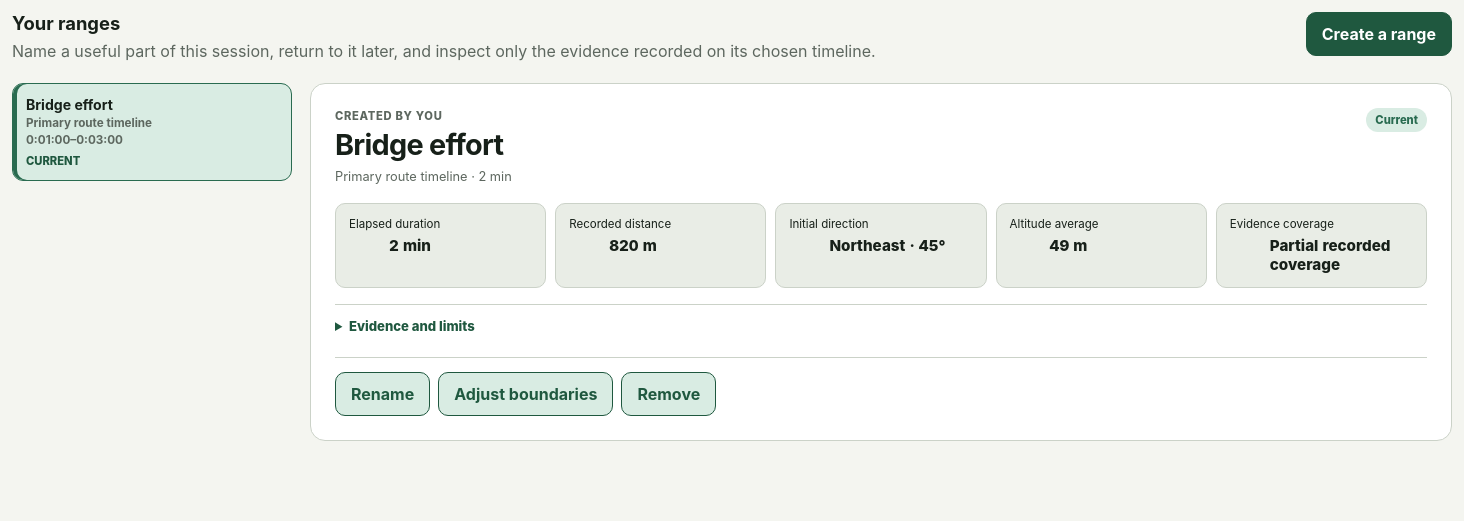
Scenario: TrainingRangesPanel › renames and adjusts an established range without offering silent reassignment
Expected: the heading "Bridge effort" is shown, [335,129,512,161]
Click the button "Rename" at x=383, y=394, box [335,372,430,416]
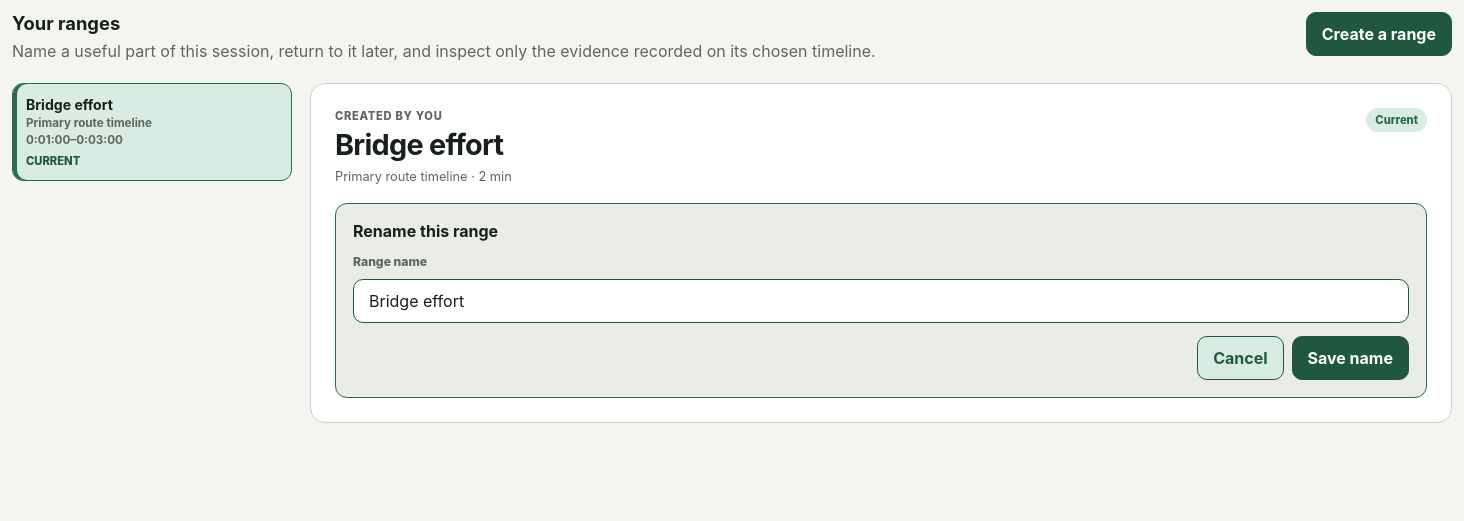
Replace the text in the field labelled "Range name" with "Bridge to lock" at x=881, y=301, box [353,279,1409,323]
Click the button "Save name" at x=1350, y=358, box [1292,336,1409,380]
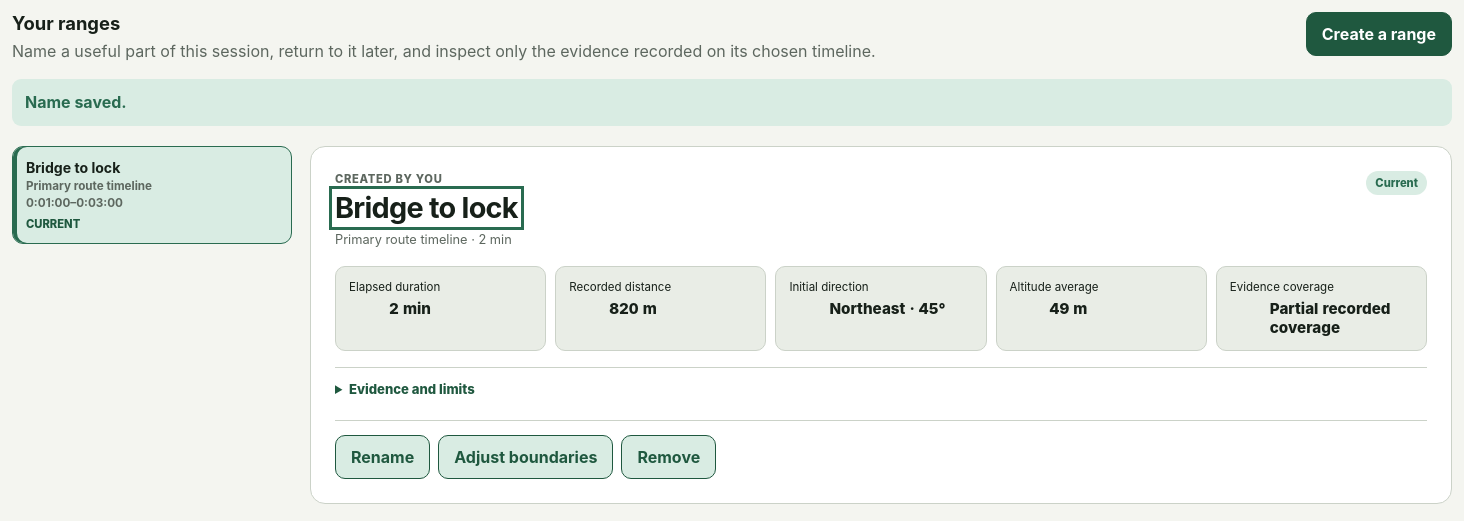
Click the button "Adjust boundaries" at x=526, y=457, box [438,435,613,479]
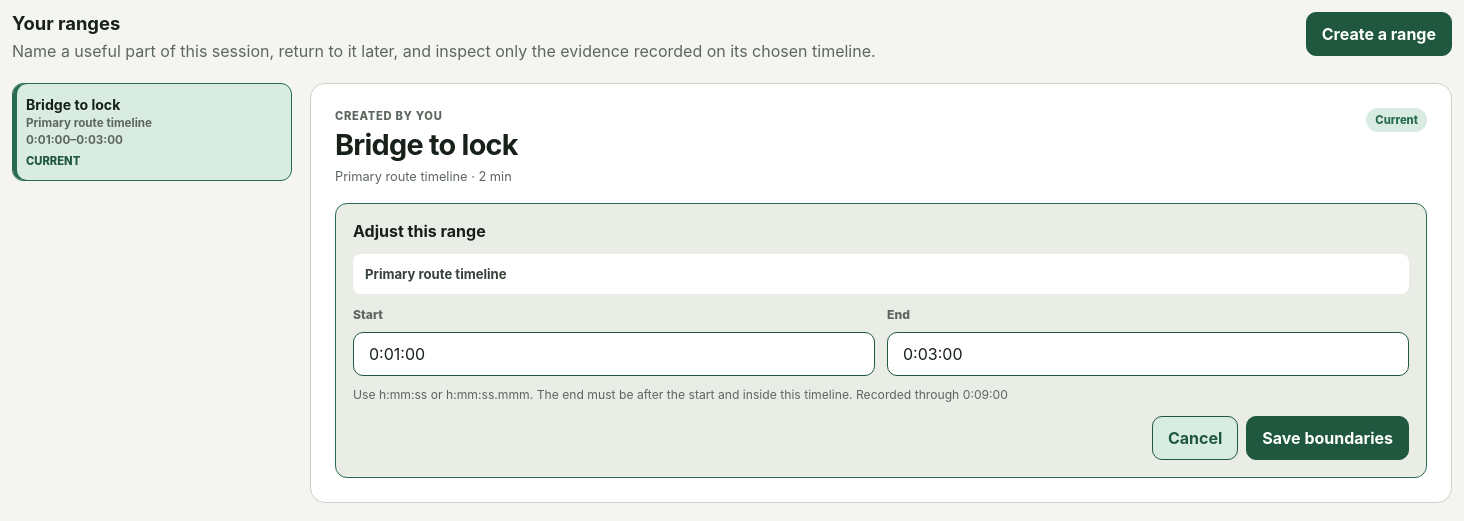
Expected: the text "Primary route timeline" below "Adjust this range" is shown, [365,266,507,282]
Replace the text in the field labelled "Start" with "0:01:30" at x=614, y=354, box [353,332,875,376]
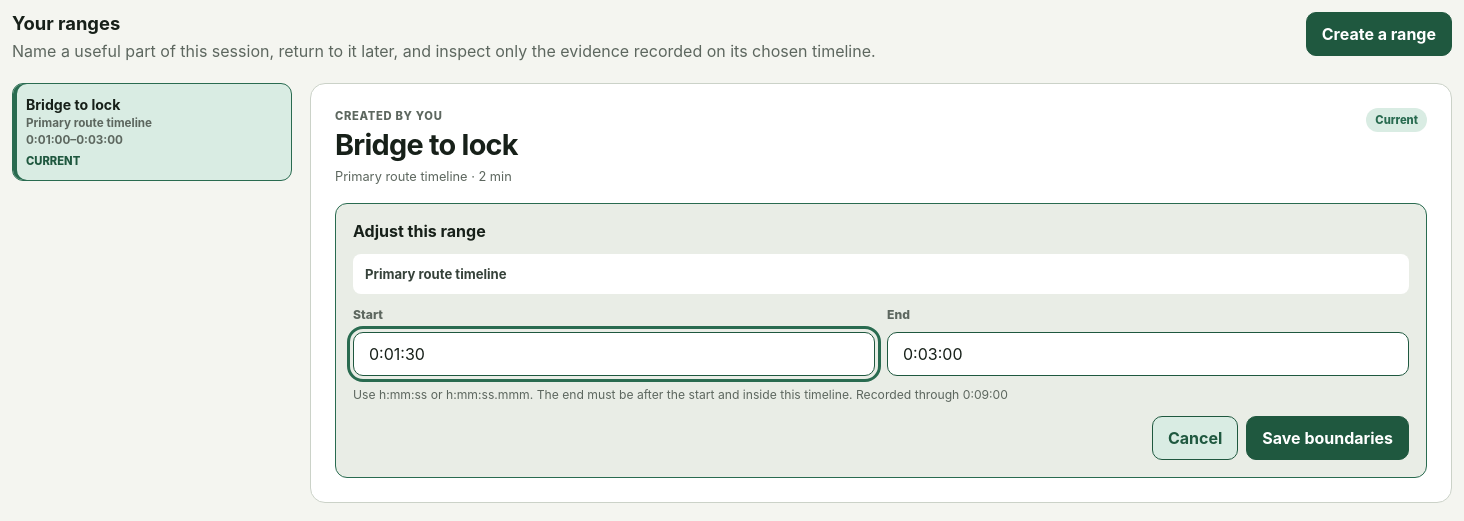
Replace the text in the field labelled "End" with "0:03:30" at x=1148, y=354, box [887,332,1409,376]
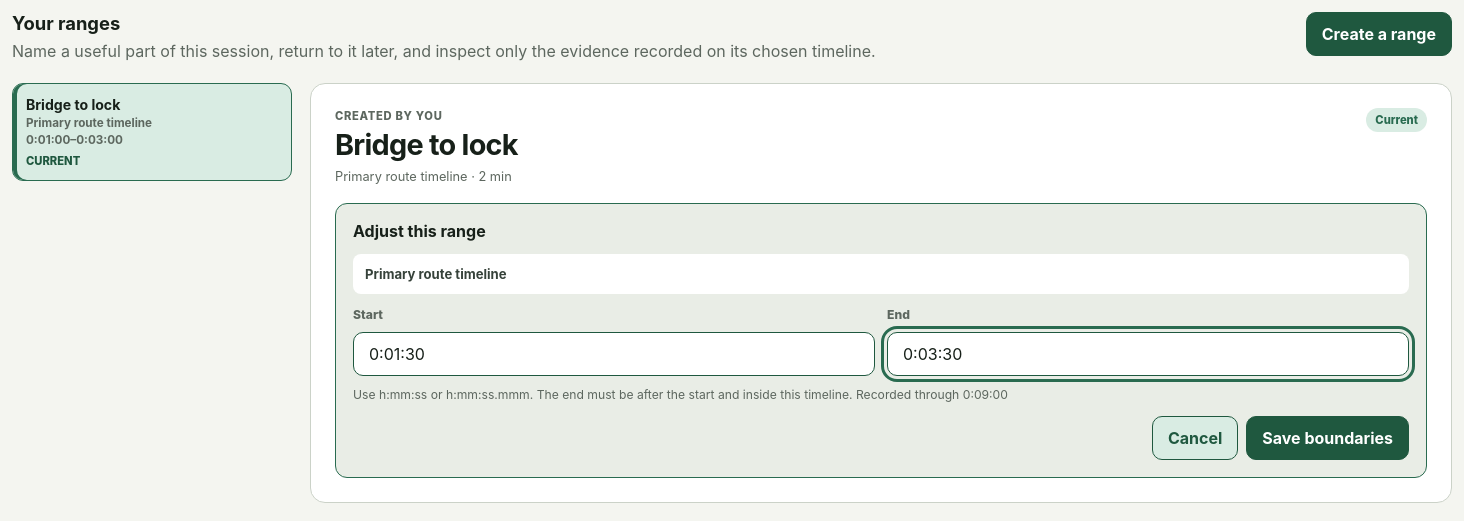
Click the button "Save boundaries" at x=1328, y=438, box [1246,416,1409,460]
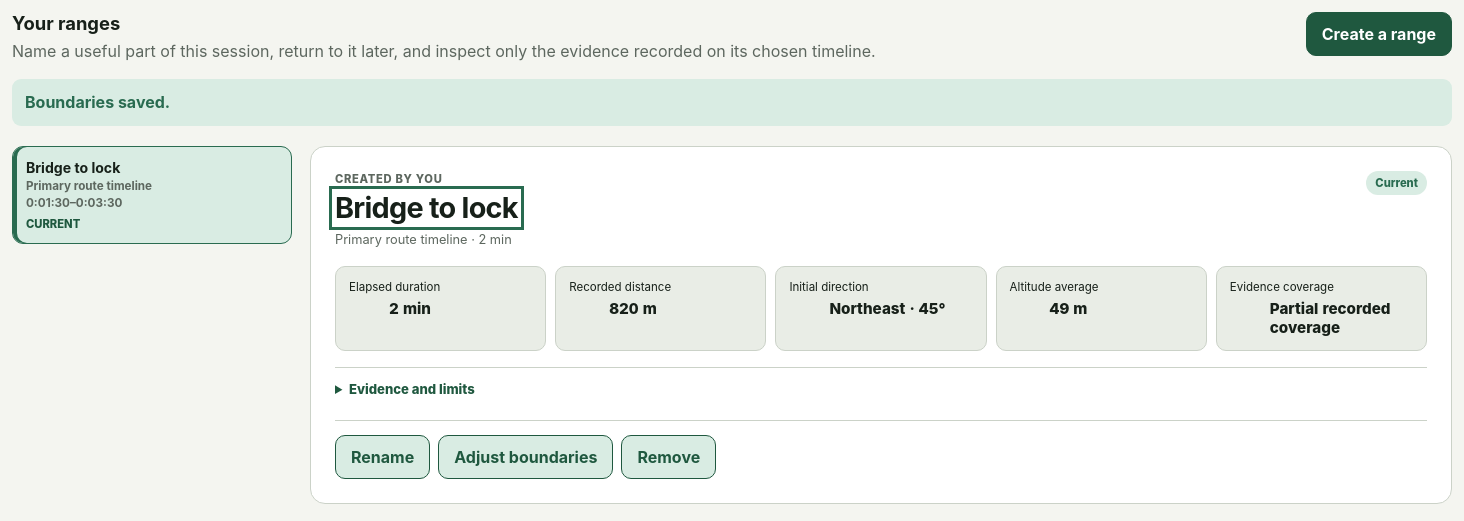
Expected: the text "Boundaries saved." is shown, [12,79,1452,126]
